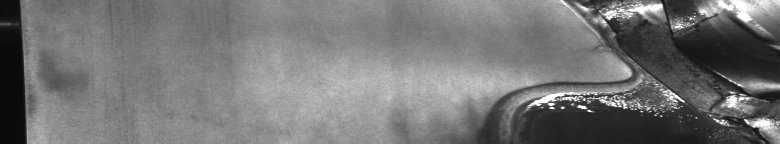ke: (492, 4, 776, 136)
